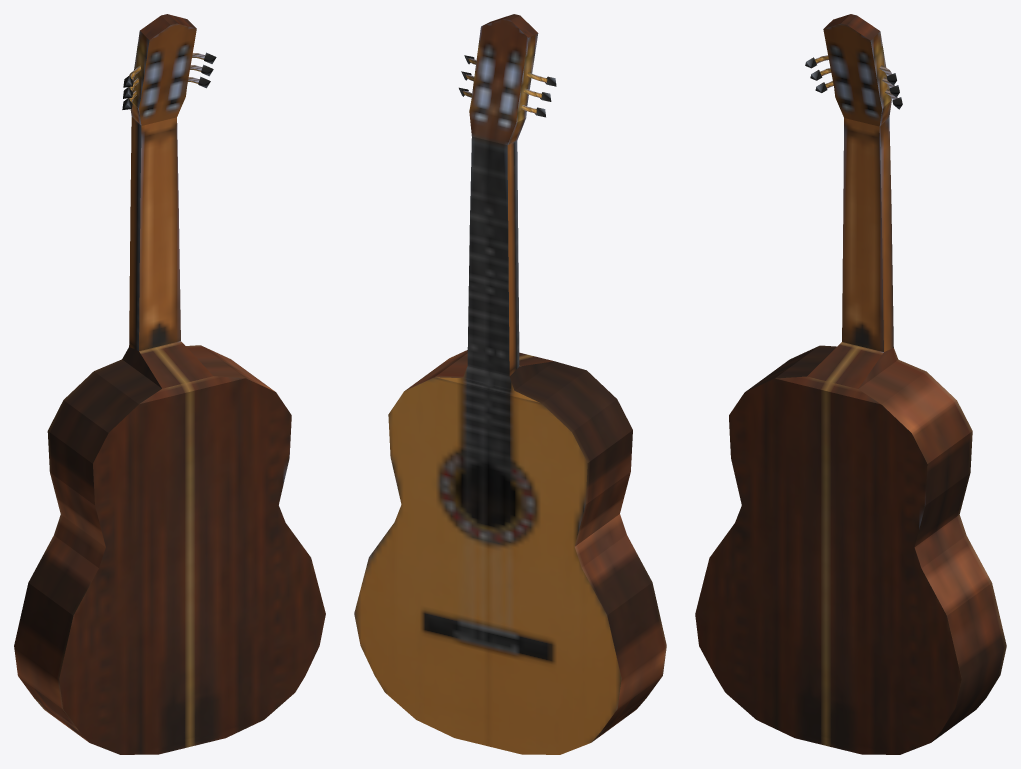
The model's file is anime----acoustic-guitar-d6d4fc.glb.
The picture shows the model from 3 angles, left to right: view 1: azimuth 30°, elevation 25°; view 2: azimuth 150°, elevation 25°; view 3: azimuth 330°, elevation 25°; orthographic projection.
Visible parts, largest first — view 1: PropMesh; view 2: PropMesh; view 3: PropMesh.
Part boxes in pixels (bbox=[...]): PropMesh: bbox=[14, 14, 325, 754]; PropMesh: bbox=[354, 14, 666, 754]; PropMesh: bbox=[695, 14, 1006, 754].
Size of the model in its own units: 0.3921 by 1 by 0.1149.
1 material, 1 textured.
